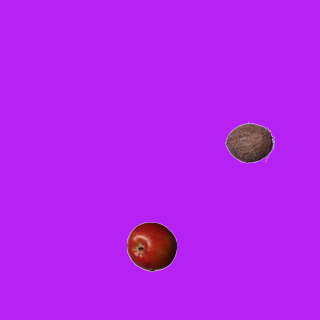Apple Braeburn: (126, 221, 176, 271)
Cocos: (224, 117, 274, 167)
